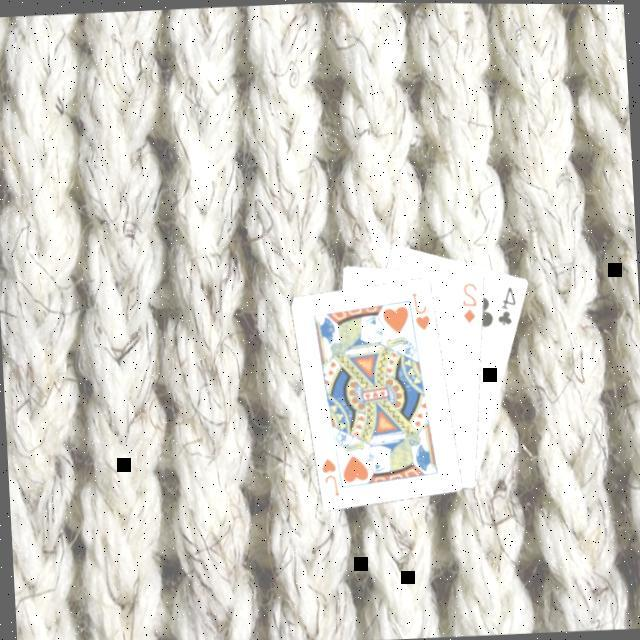2D: (460, 276, 483, 323)
4C: (494, 280, 522, 326)
JH: (409, 286, 434, 331), (320, 452, 344, 497)
